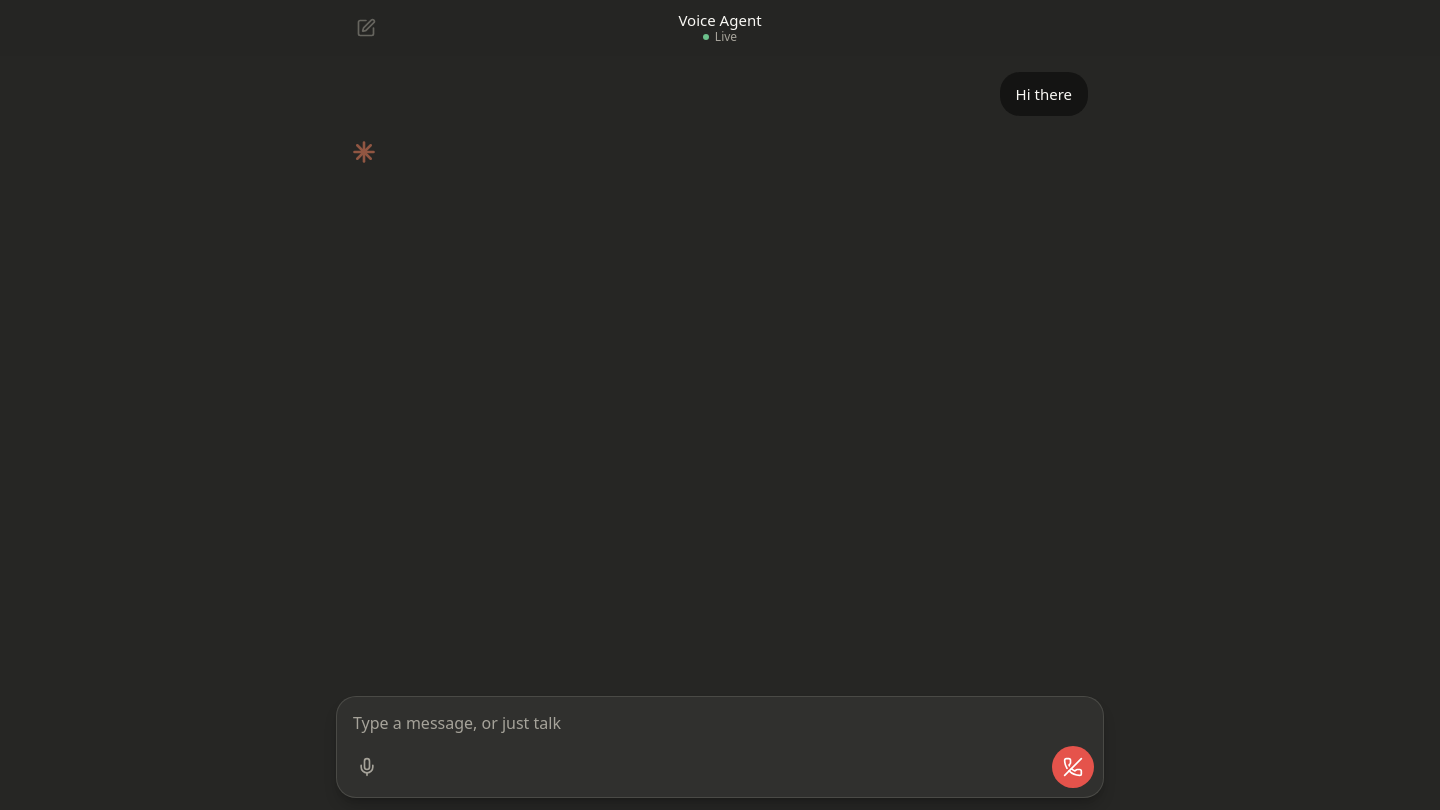
Test: ConversationScreen › shows a toast when typed text cannot be sent
Type "hi" into the text box labelled "message". click: (720, 721)
box: x1=337 y1=697 x2=1103 y2=745
Then press Enter
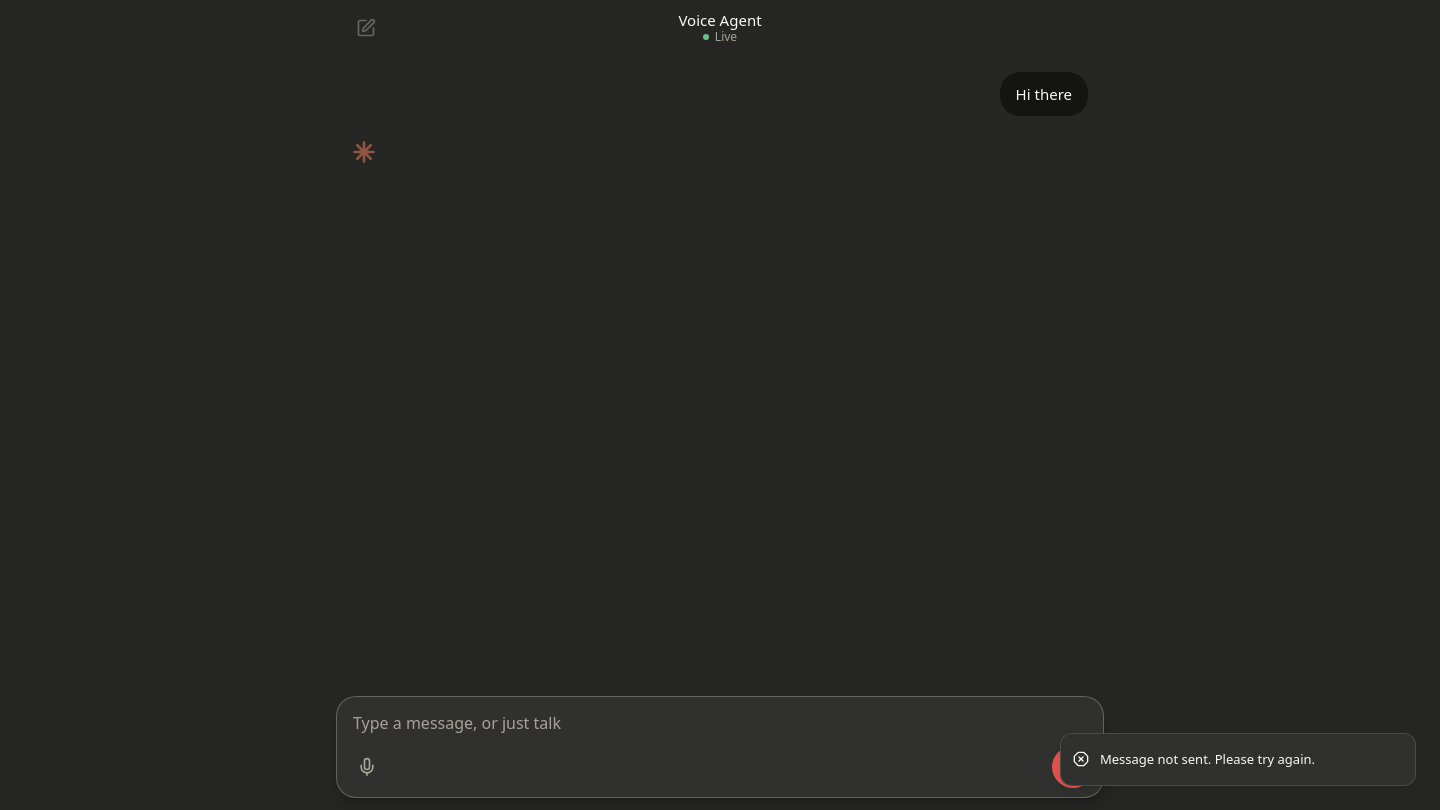
Check: the text "Message not sent. Please try again." is shown, box x1=1100 y1=750 x2=1315 y2=769
